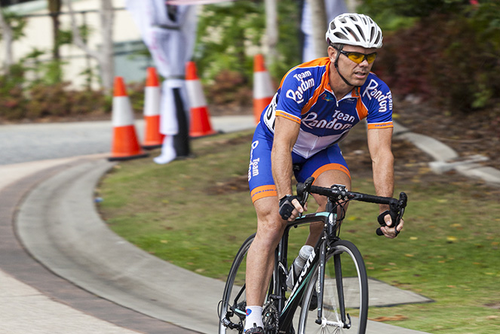bikerider: (215, 6, 414, 334)
